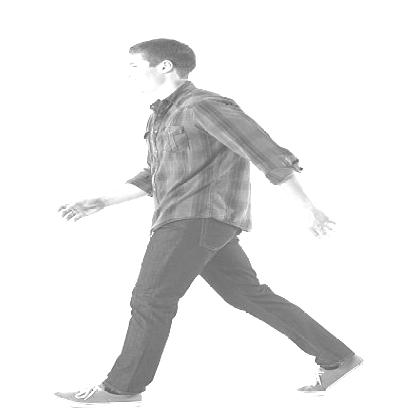jean: (32, 22, 372, 416)
